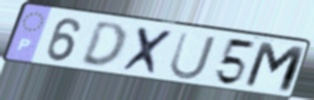5: (213, 36, 257, 88)
6: (45, 17, 83, 63)
D: (78, 21, 128, 71)
M: (241, 40, 309, 96)
U: (166, 30, 219, 82)
X: (118, 25, 178, 78)
